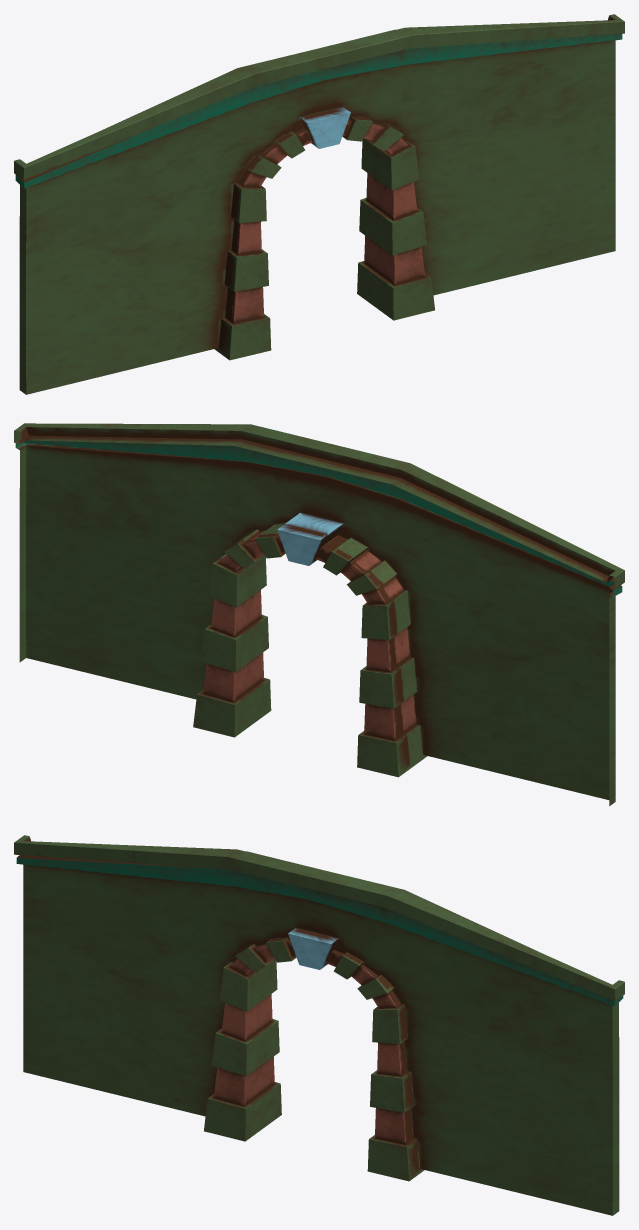
Rendered from Environment_Wall.fbx.
3 views of the same model, one above another, from view 1: azimuth 30°, elevation 25°; view 2: azimuth 150°, elevation 25°; view 3: azimuth 330°, elevation 25° (orthographic).
Visible parts, largest first — view 1: Wall; view 2: Wall; view 3: Wall.
Part boxes in pixels (<box>): Wall: <box>14,14,624,394</box>; Wall: <box>14,423,624,806</box>; Wall: <box>14,835,624,1215</box>.
Bounding box in the file's own units: 3125 × 334 × 1398.
